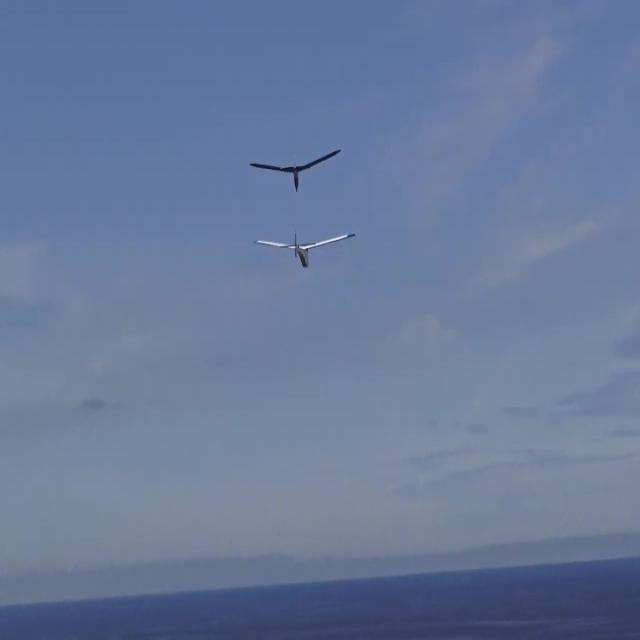iha: (284, 229, 324, 269), (280, 147, 310, 192)
